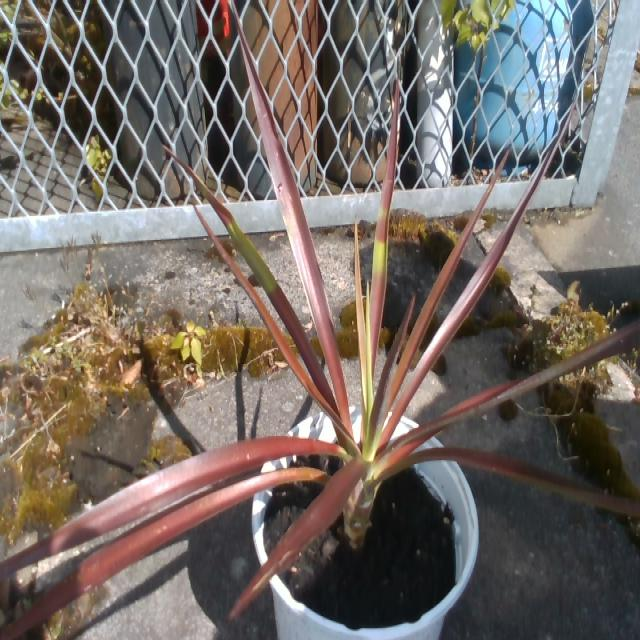Yucca-aloifolia: (381, 116, 568, 445), (5, 468, 328, 635), (164, 147, 347, 420), (0, 436, 344, 577), (239, 32, 346, 423), (196, 209, 354, 448), (380, 320, 639, 463), (230, 457, 368, 617), (401, 447, 639, 515), (384, 227, 471, 408), (370, 80, 397, 348), (373, 295, 414, 427), (354, 225, 371, 409), (471, 177, 496, 221)
